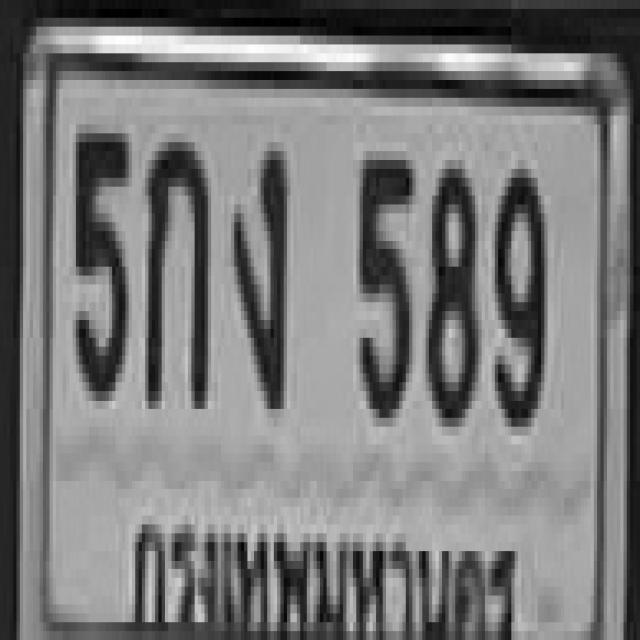10GorGai: (142, 133, 208, 400)
16NgorNgu: (231, 142, 284, 400)
5: (354, 151, 410, 418), (72, 125, 126, 391)
8: (422, 151, 475, 418)
9: (492, 160, 541, 418)
Bangkok: (122, 506, 518, 640)
